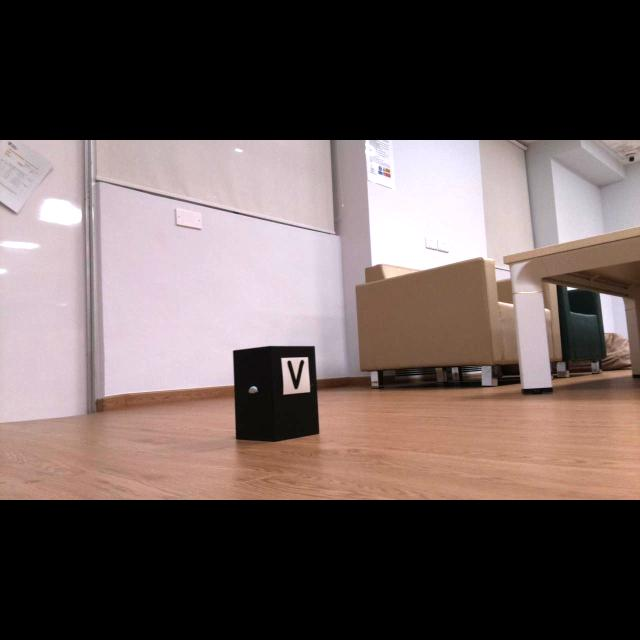V: (287, 360, 303, 389)
